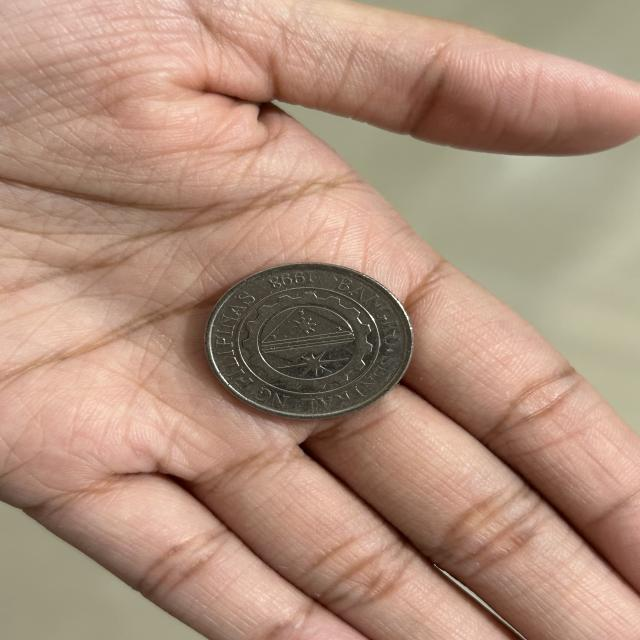1_Old_Back: (242, 284, 390, 400)
